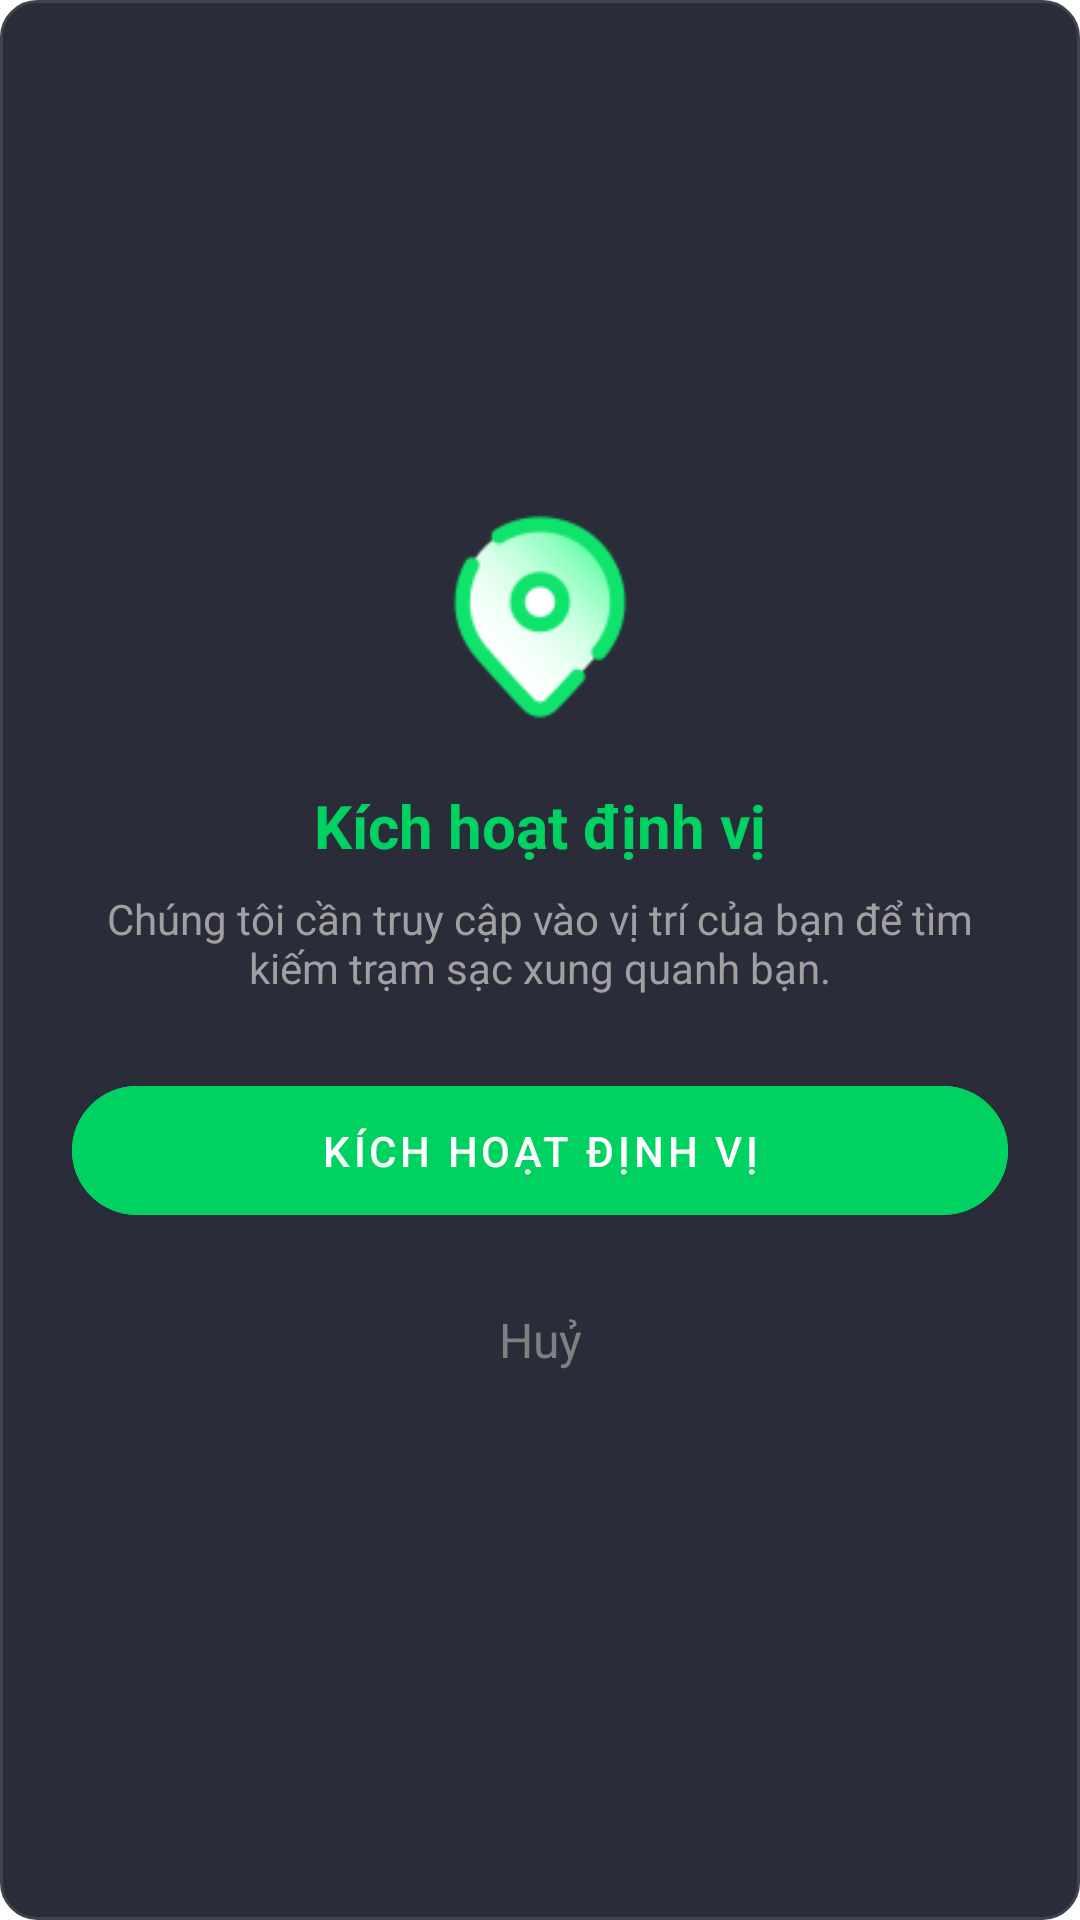

Icons on this 1080 × 1920 Android screen, each with its box as (x1, y1, x2, y2):
location: (453, 515, 627, 718)
